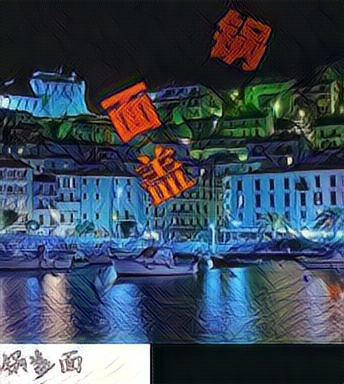B8C7: (133, 143, 198, 207)
B9F8: (208, 9, 273, 73)
C3E6: (98, 78, 163, 142)
